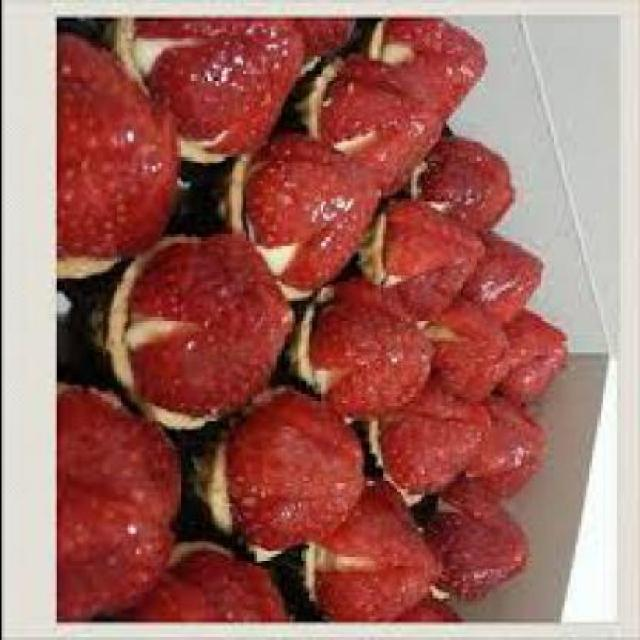BIODEGRADABLE: (103, 228, 300, 427), (192, 382, 368, 560), (58, 23, 176, 279), (58, 382, 180, 620), (222, 133, 382, 296), (124, 18, 305, 157), (292, 273, 436, 418), (327, 56, 442, 210), (365, 374, 498, 506), (129, 539, 294, 638), (371, 196, 483, 335), (415, 480, 533, 605), (371, 18, 489, 136), (418, 136, 513, 249), (420, 302, 506, 418), (461, 394, 547, 498), (467, 225, 544, 329), (498, 311, 568, 412), (288, 15, 362, 77)
